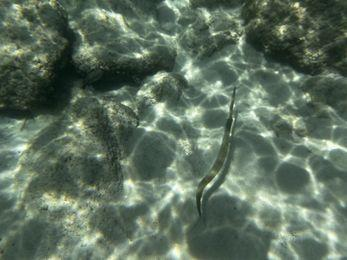Fistularia commersonii: (200, 100, 248, 228)
